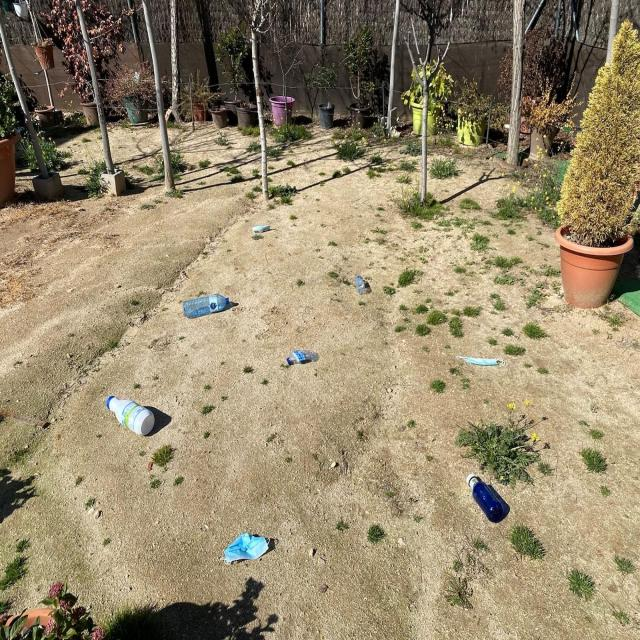bottle: (454, 460, 518, 535), (92, 380, 160, 444), (162, 282, 222, 325), (269, 334, 318, 385), (342, 256, 375, 304)
